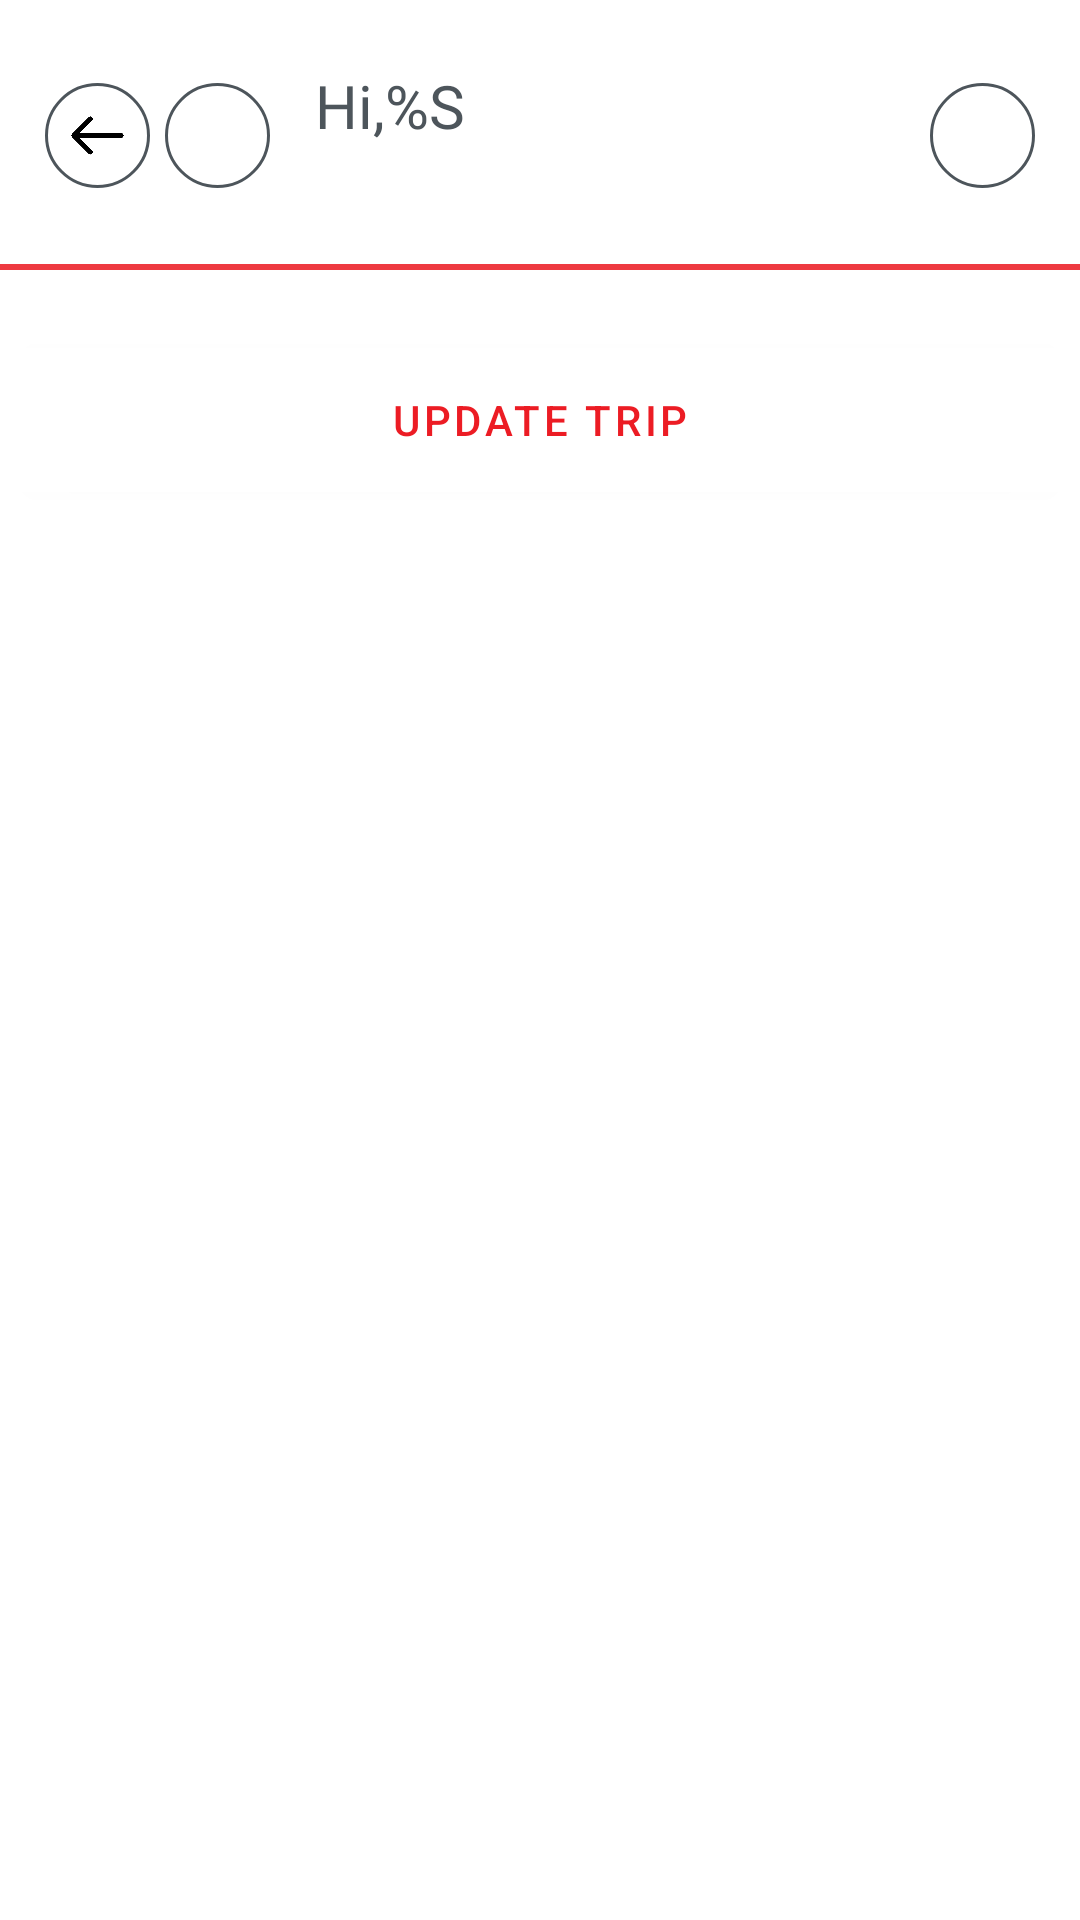

Icons on this 1080x1920 Android screen, each with its box as (x1, y1, x2, y2):
back: (45, 83, 150, 188)
